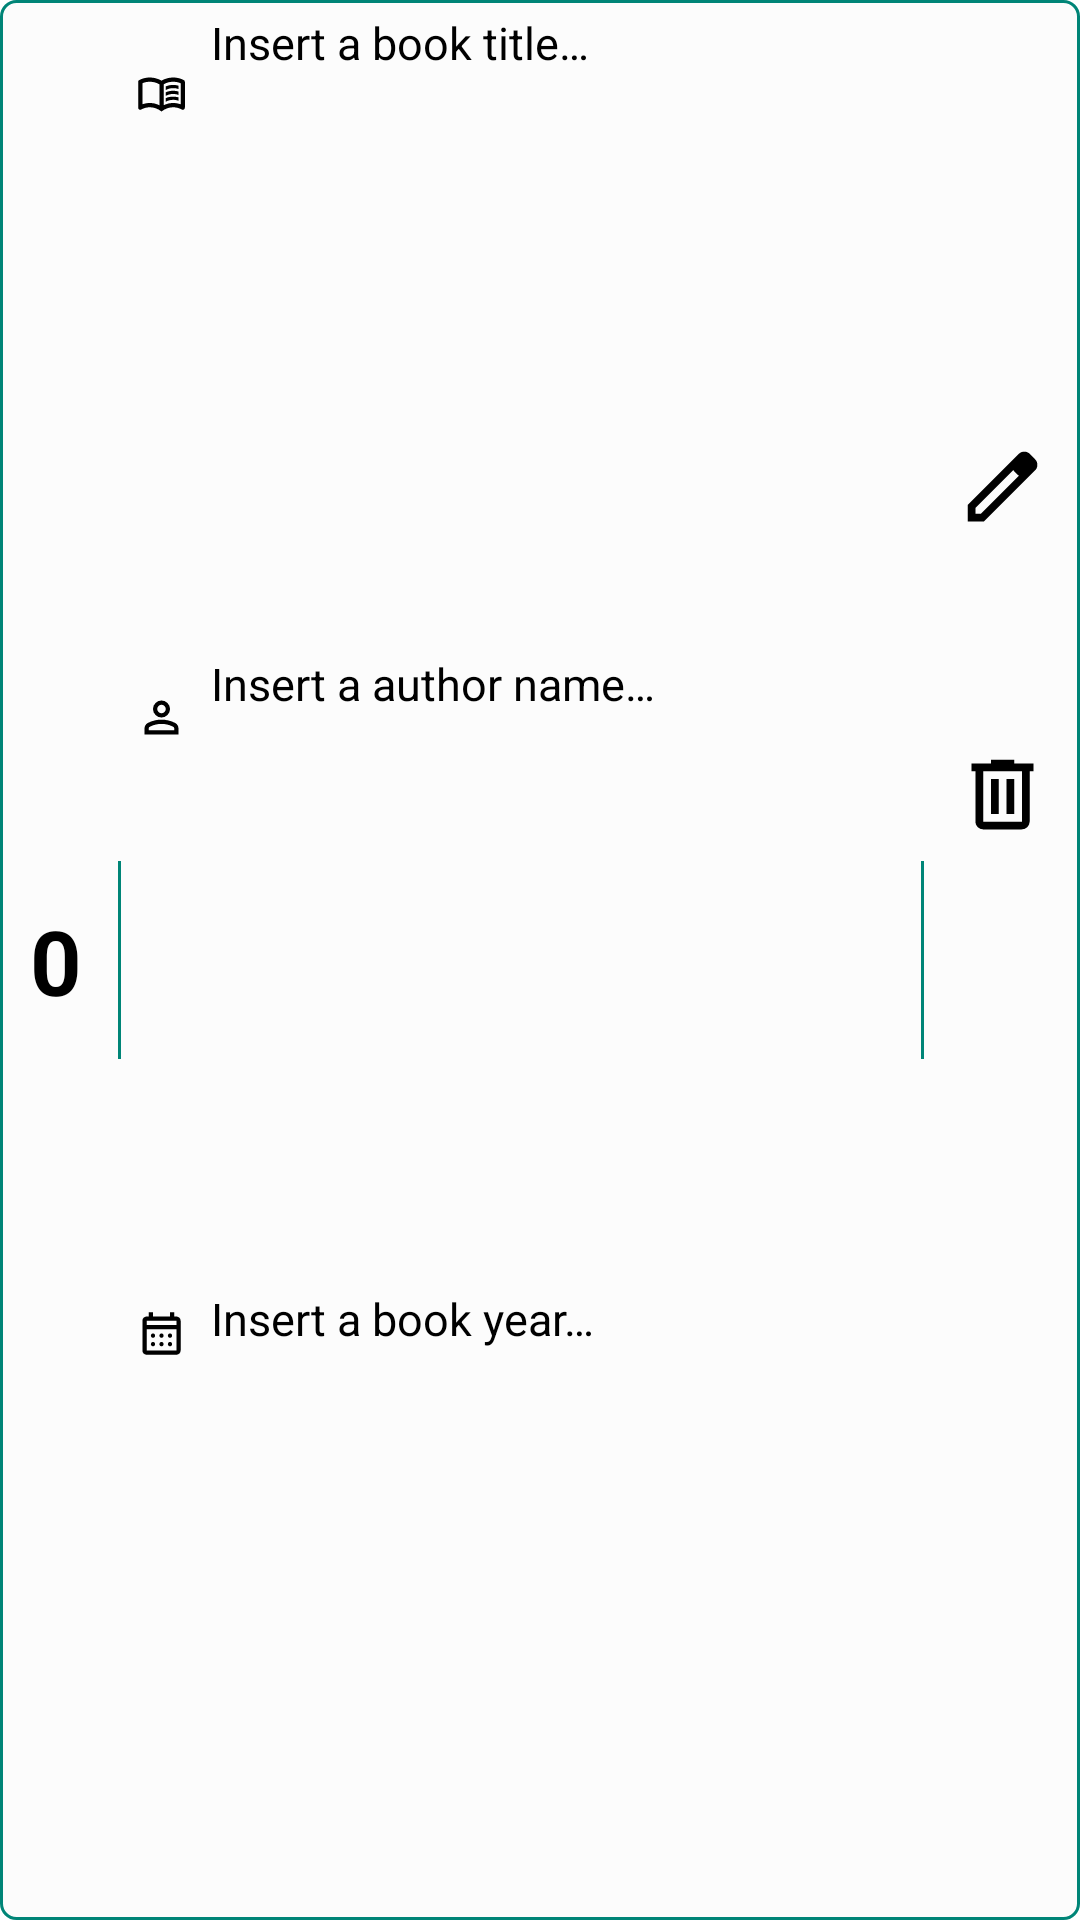

Named icons in this screenshot (1080px×1920px) and their centers, (x,y):
Button to change the title, author and year of the book: (1002,486)
Button to delete this book information box: (1002,794)
Image of the author of the book: (161,717)
